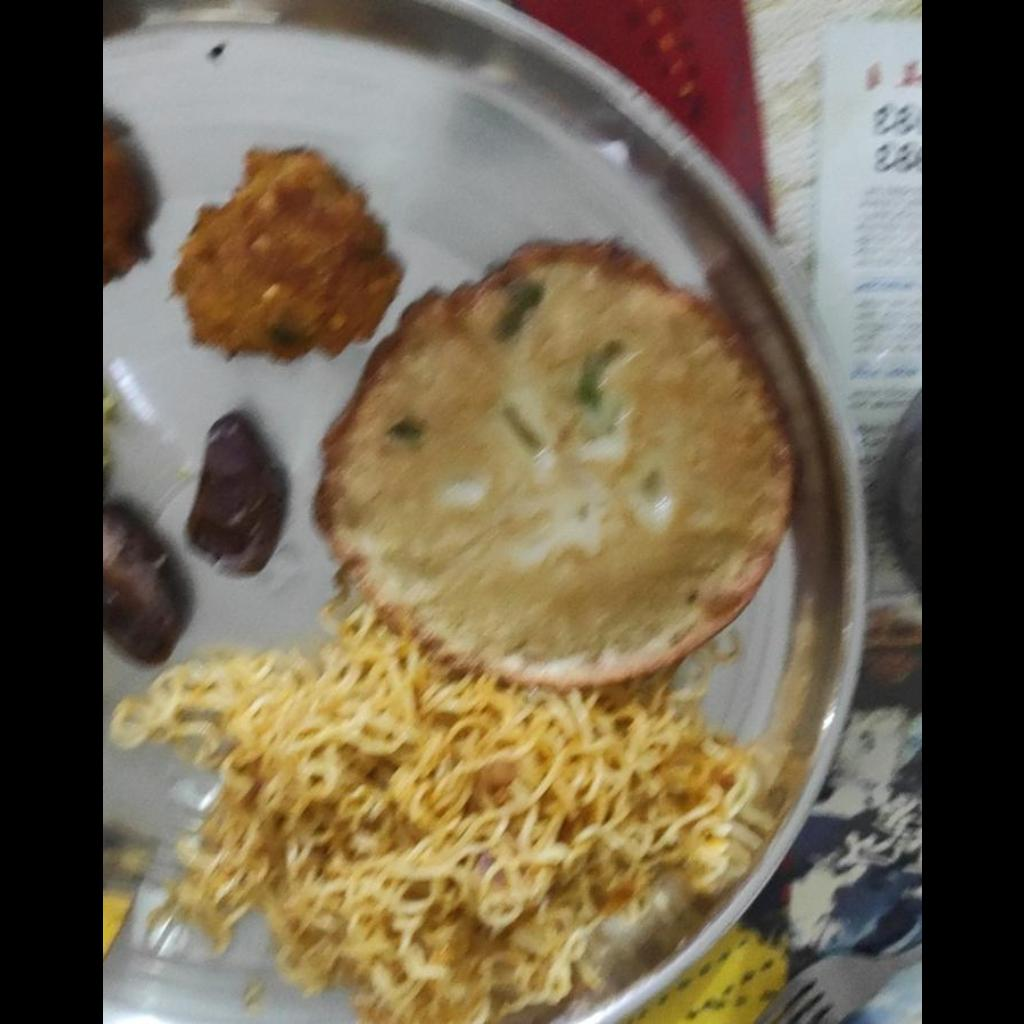dates: (103, 416, 292, 660)
egg-poached: (319, 241, 793, 681)
noodles: (112, 622, 803, 1020)
peyaju: (176, 151, 402, 358)
